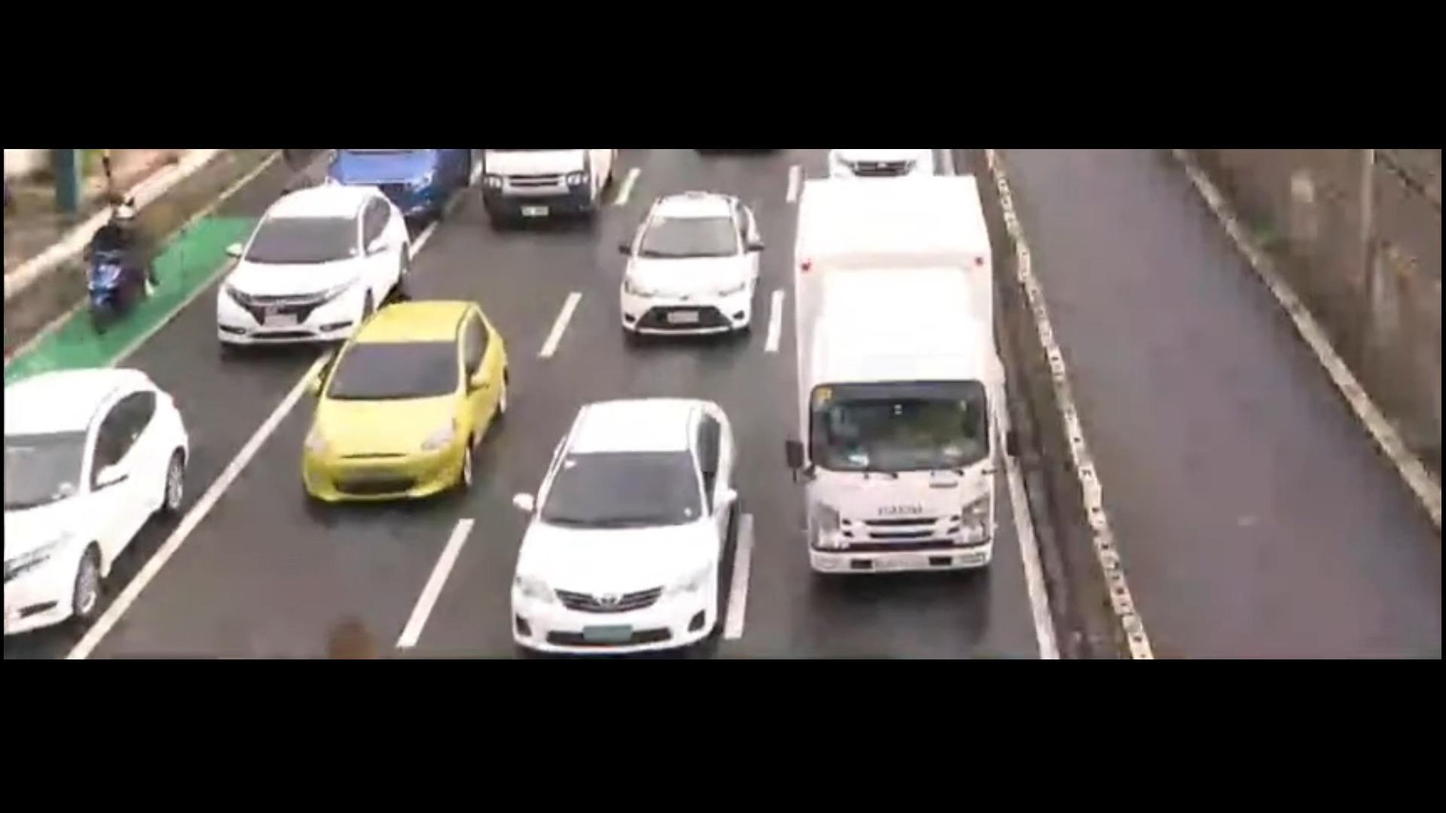Motorcycle: (67, 189, 164, 337)
Sedan: (481, 375, 754, 663), (0, 333, 204, 655), (293, 283, 531, 523), (207, 175, 416, 354), (602, 179, 770, 362)
Truck: (775, 162, 1034, 596)
